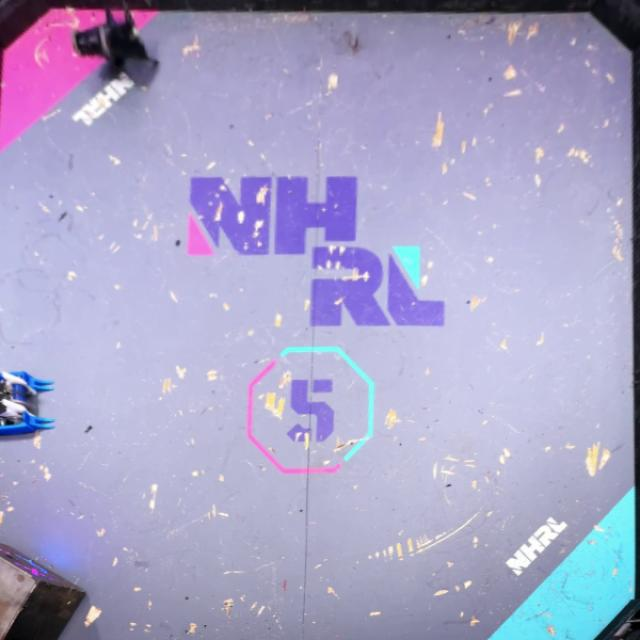housebot: (1, 538, 88, 639)
robot: (69, 10, 160, 89), (2, 366, 57, 443)
